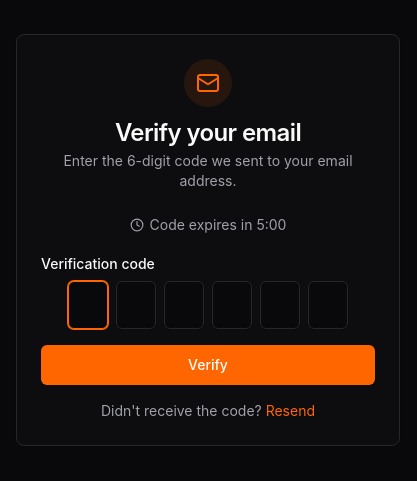
Test: VerifyEmailPage — server error › shows server error on invalid code submission
In the field named "Digit 1": coordinates (88, 305) [68,281,108,329], type "9"
In the field named "Digit 2": coordinates (136, 305) [116,281,156,329], type "9"
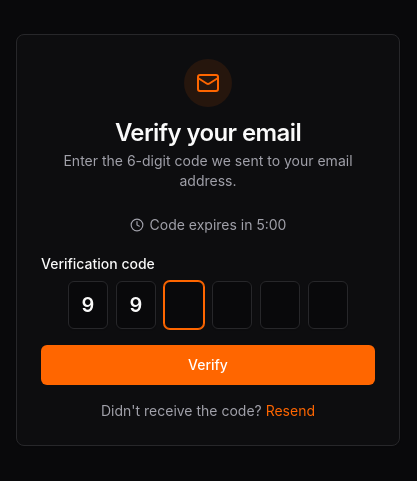
In the field named "Digit 3": coordinates (184, 305) [164,281,204,329], type "9"
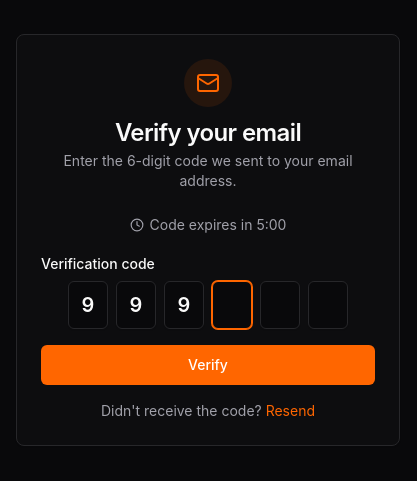
In the field named "Digit 4": coordinates (232, 305) [212,281,252,329], type "9"
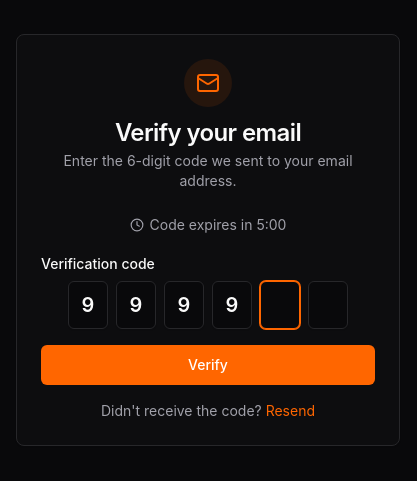
In the field named "Digit 5": coordinates (280, 305) [260,281,300,329], type "9"
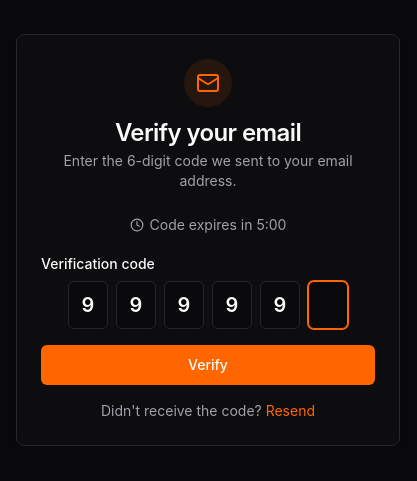
In the field named "Digit 6": coordinates (328, 305) [308,281,348,329], type "9"
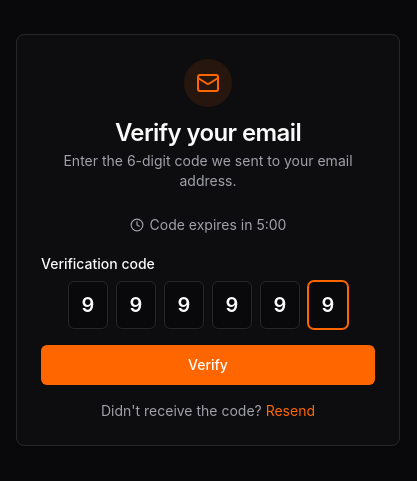
Click the button "Verify": coordinates (208, 365) [41,345,375,385]
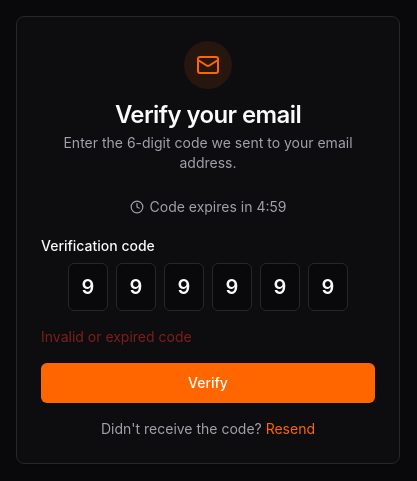
Now the message reads "Invalid or expired code", box [41,328,192,345]
